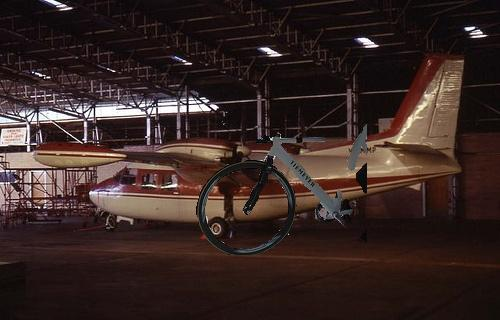tampered: (197, 122, 367, 255)
